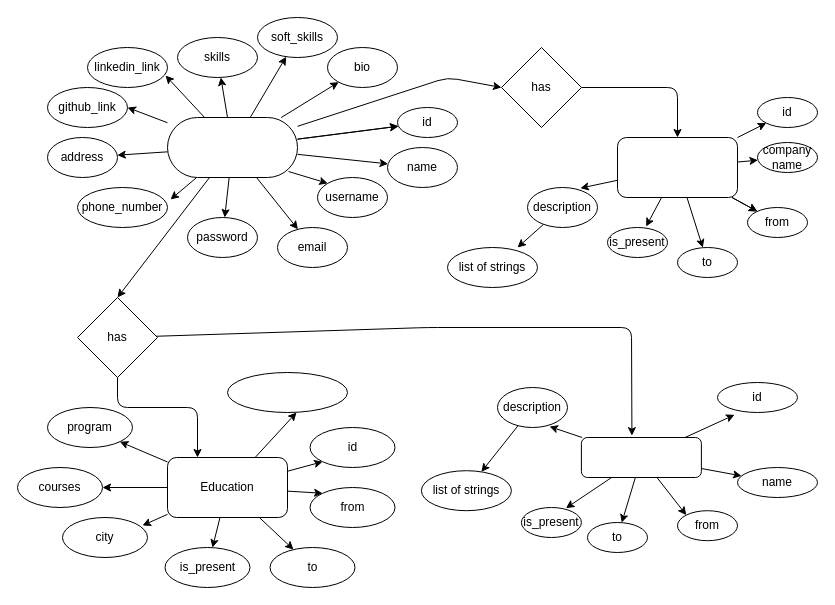
Image size: 835x605. Some labels were removed from this diagram. The shapes that lost their labels are listed below. From the top down, each one's box as (x1, y1, x2, y2) in pixels, then its label:
(166, 116, 298, 178): user
(616, 136, 738, 198): Experiences
(226, 372, 348, 412): place_of_education
(580, 436, 701, 478): Certificates
